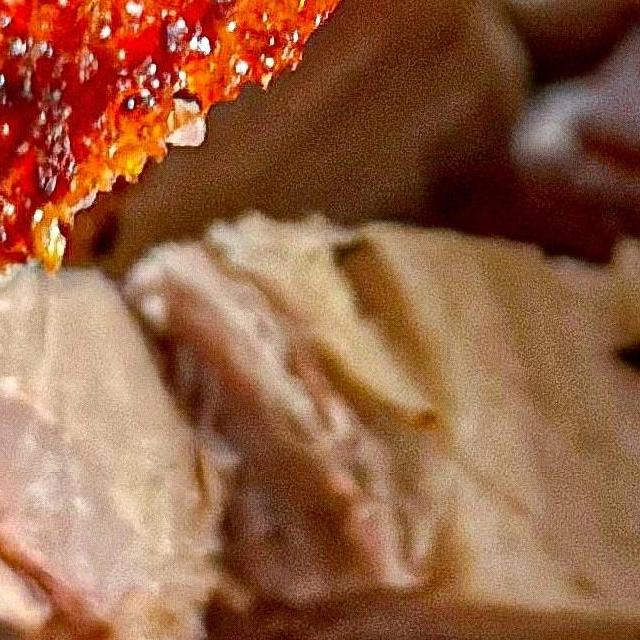thit heo quay: (0, 196, 640, 640), (0, 0, 414, 493)
